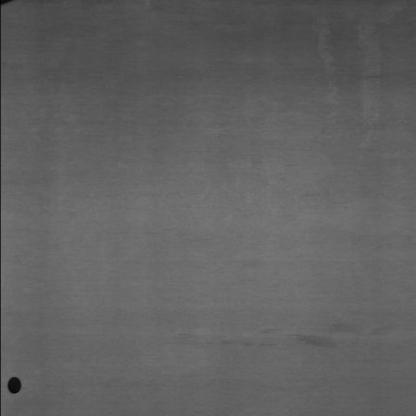oil_spot: (283, 321, 372, 349)
punching_hole: (4, 377, 23, 395)
